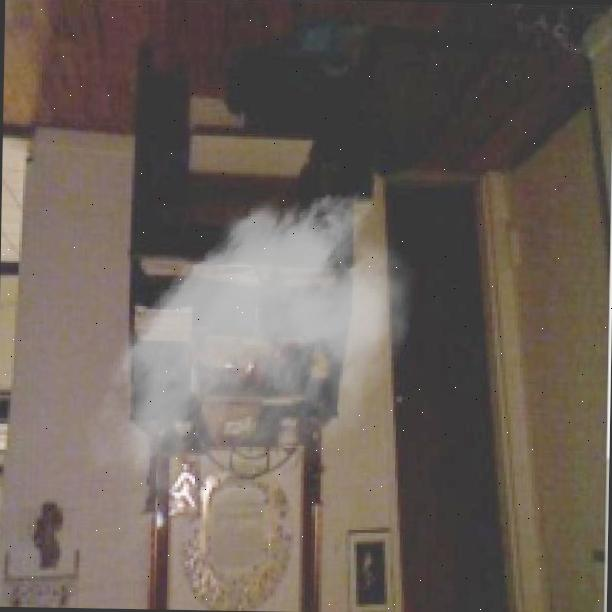smoke: (77, 176, 428, 554)
